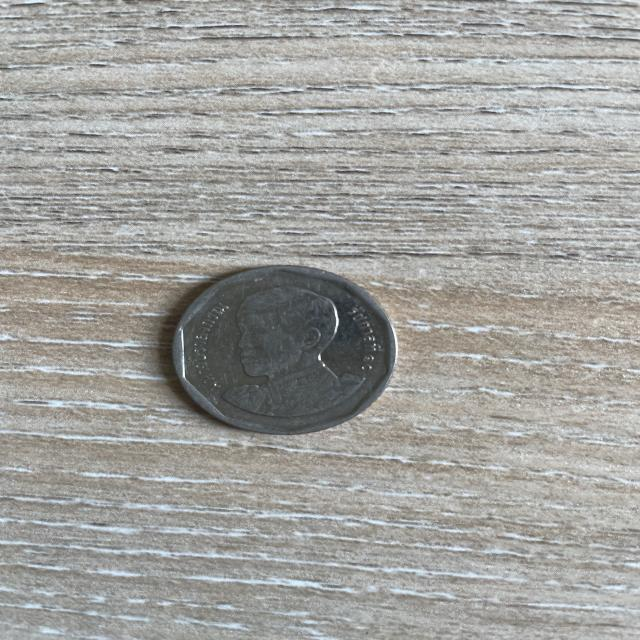5 Bath: (160, 257, 412, 442)
